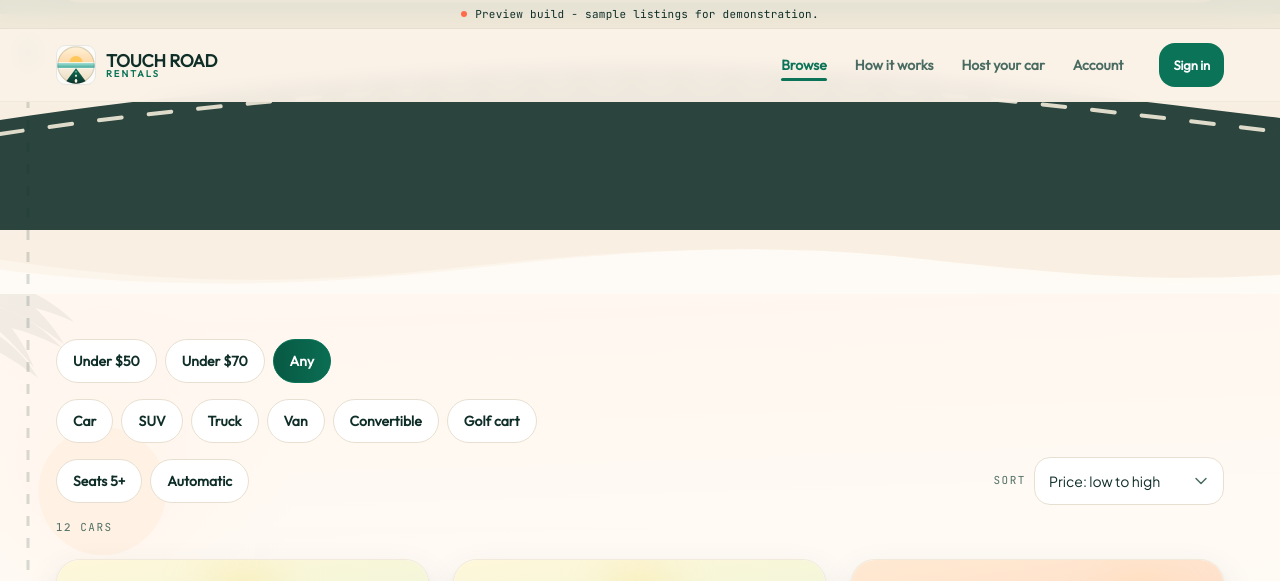
Test case: Browse › drops everything at $50 or more behind the Under $50 chip
(page scrolled)
Click the button "Under $50".
click(106, 360)  # box [56,338,157,382]
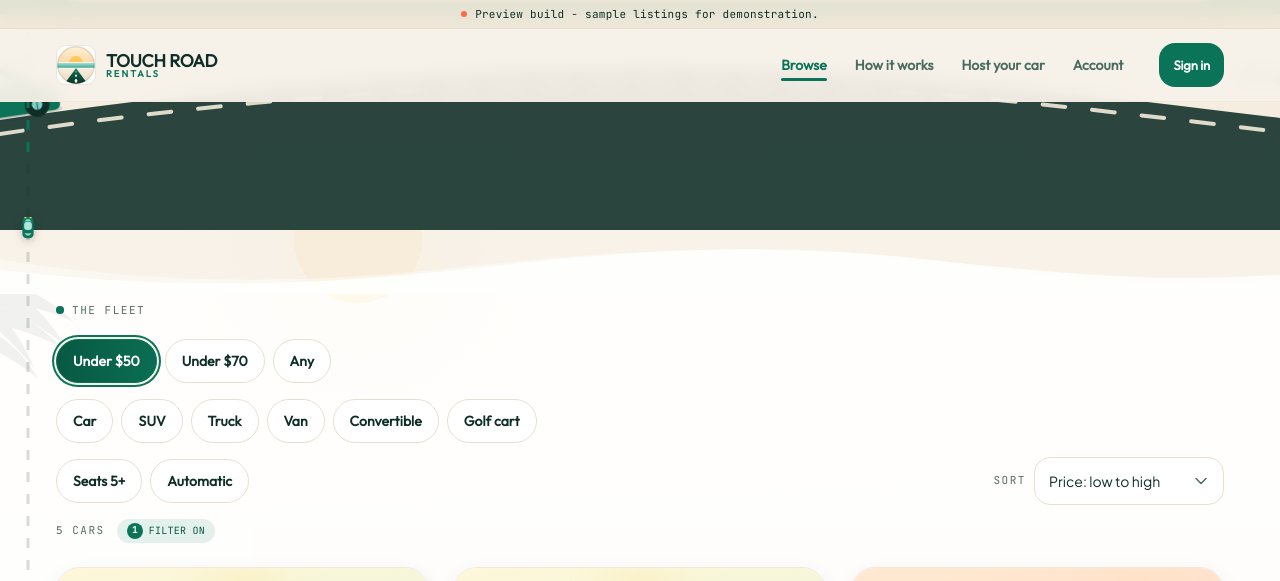
Result: the number of links with test id "listing-card" is 5
